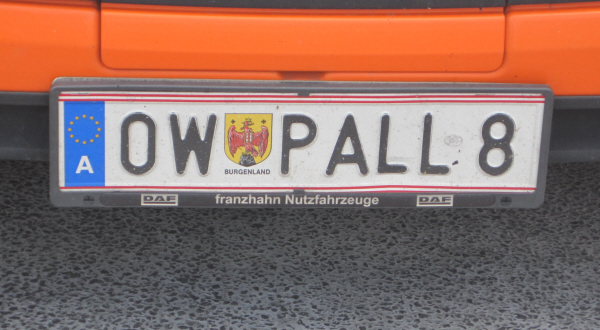license_plate: (58, 86, 545, 197)
